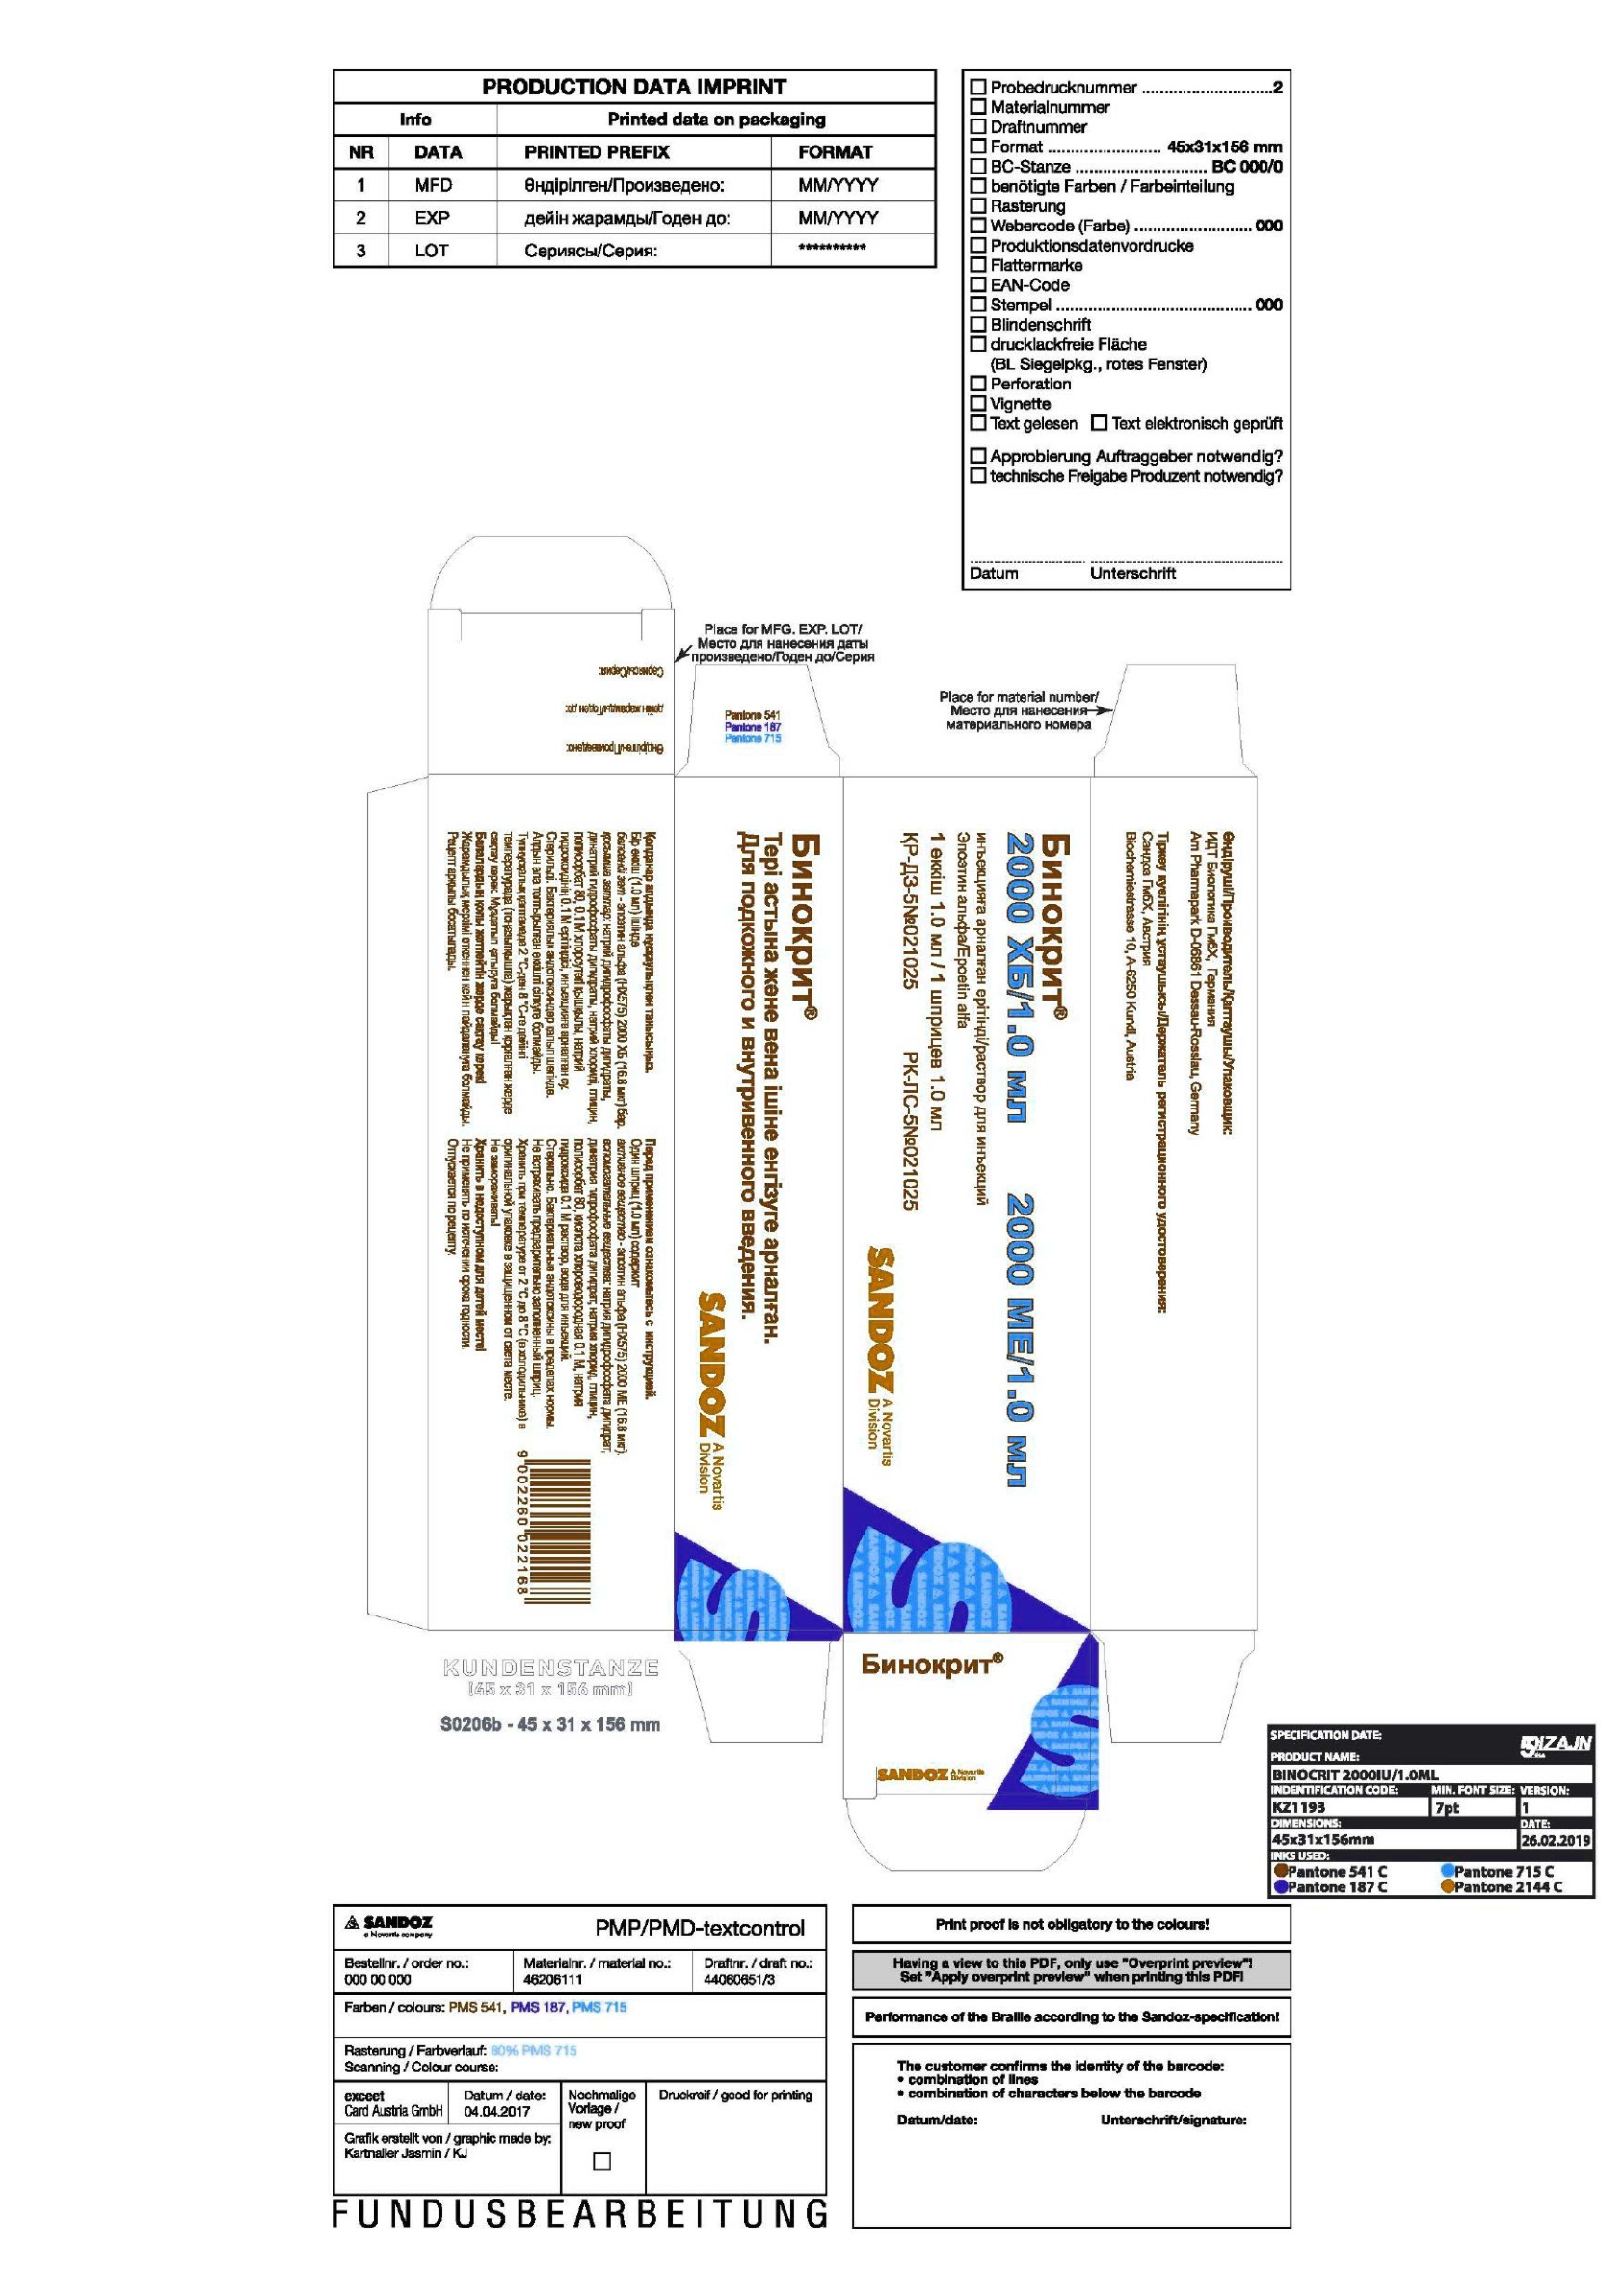merged_cells: (332, 1902, 826, 2198), (332, 67, 937, 267), (1267, 1723, 1596, 1899)
